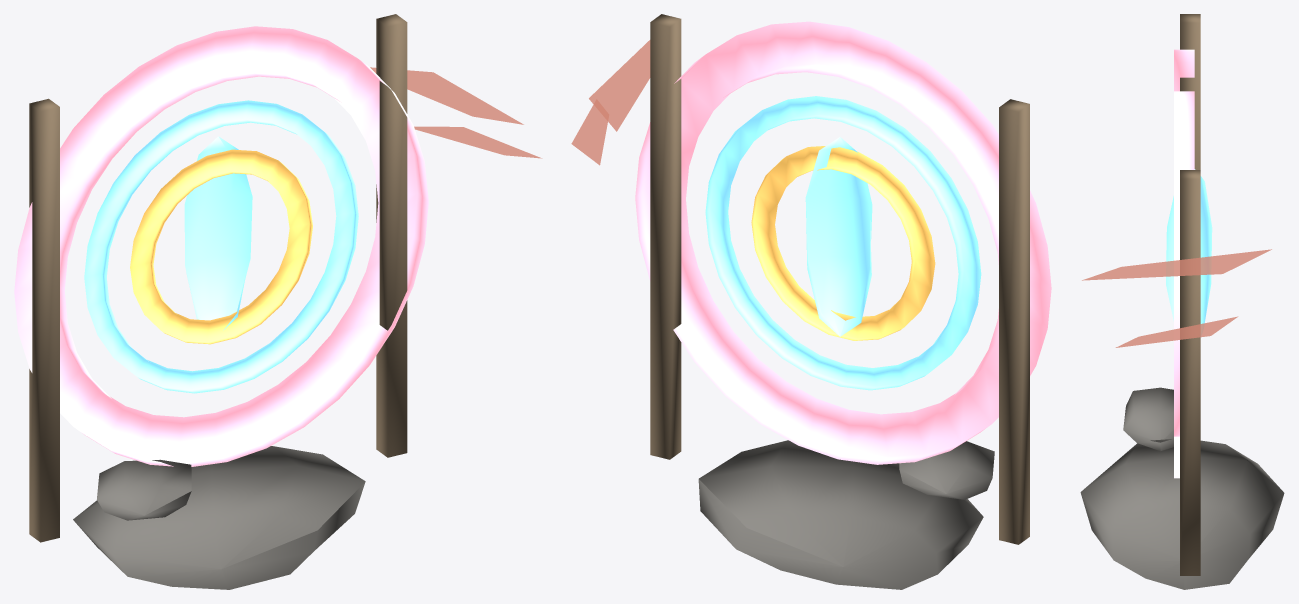
File: route_markers.gltf
The picture shows the model from 3 angles, left to right: view 1: azimuth 30°, elevation 25°; view 2: azimuth 150°, elevation 25°; view 3: azimuth 270°, elevation 25°; orthographic projection. The views are drawn at different scales.
Visible parts, largest first — view 1: route gate ring, stacked cairn base, inner readable route gate ring, left support mast, right support mast, painted landing glyph halo, objective shard, offset cairn pebble marker, weathered route pennant cloth, small wind torn pennant tail; view 2: route gate ring, stacked cairn base, inner readable route gate ring, right support mast, left support mast, painted landing glyph halo, objective shard, offset cairn pebble marker, weathered route pennant cloth, small wind torn pennant tail; view 3: stacked cairn base, right support mast, route gate ring, offset cairn pebble marker, weathered route pennant cloth, objective shard, left support mast, small wind torn pennant tail.
Boxes of the visible parts, x1,y1,x2,y2 form: route gate ring: (14, 26, 428, 466); stacked cairn base: (73, 446, 365, 589); inner readable route gate ring: (84, 100, 358, 393); left support mast: (29, 98, 59, 542); right support mast: (376, 14, 407, 457); painted landing glyph halo: (130, 149, 312, 344); objective shard: (184, 136, 252, 330); offset cairn pebble marker: (97, 459, 191, 520); weathered route pennant cloth: (370, 67, 523, 124); small wind torn pennant tail: (414, 126, 542, 158); route gate ring: (635, 21, 1051, 464); stacked cairn base: (698, 440, 983, 589); inner readable route gate ring: (705, 96, 981, 390); right support mast: (650, 14, 681, 459); left support mast: (999, 99, 1029, 544); painted landing glyph halo: (751, 146, 935, 340); objective shard: (805, 137, 872, 336); offset cairn pebble marker: (899, 441, 994, 499); weathered route pennant cloth: (589, 40, 650, 131); small wind torn pennant tail: (571, 104, 607, 165); stacked cairn base: (1080, 439, 1284, 589); right support mast: (1180, 170, 1200, 575); route gate ring: (1174, 49, 1194, 478); offset cairn pebble marker: (1123, 387, 1173, 451); weathered route pennant cloth: (1082, 249, 1271, 280); objective shard: (1166, 169, 1212, 334); left support mast: (1180, 14, 1200, 169); small wind torn pennant tail: (1115, 316, 1238, 347).
Size of the model in its own units: 1.73 by 1.82 by 0.6848.
